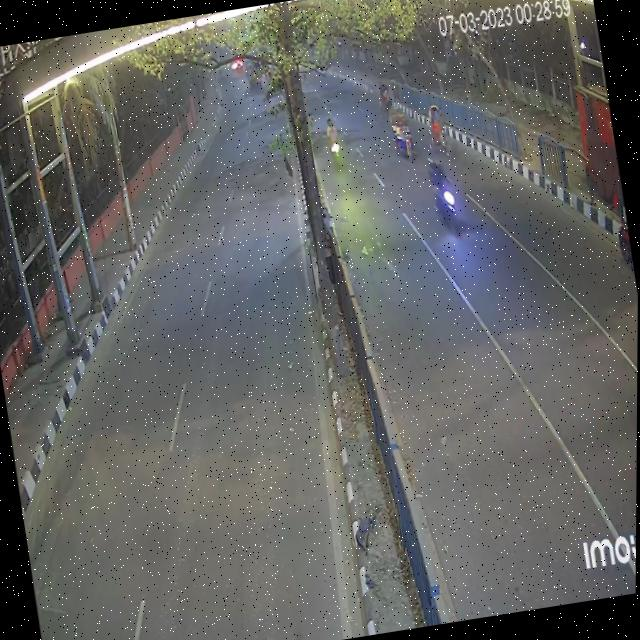rikshaw: (424, 101, 452, 154)
